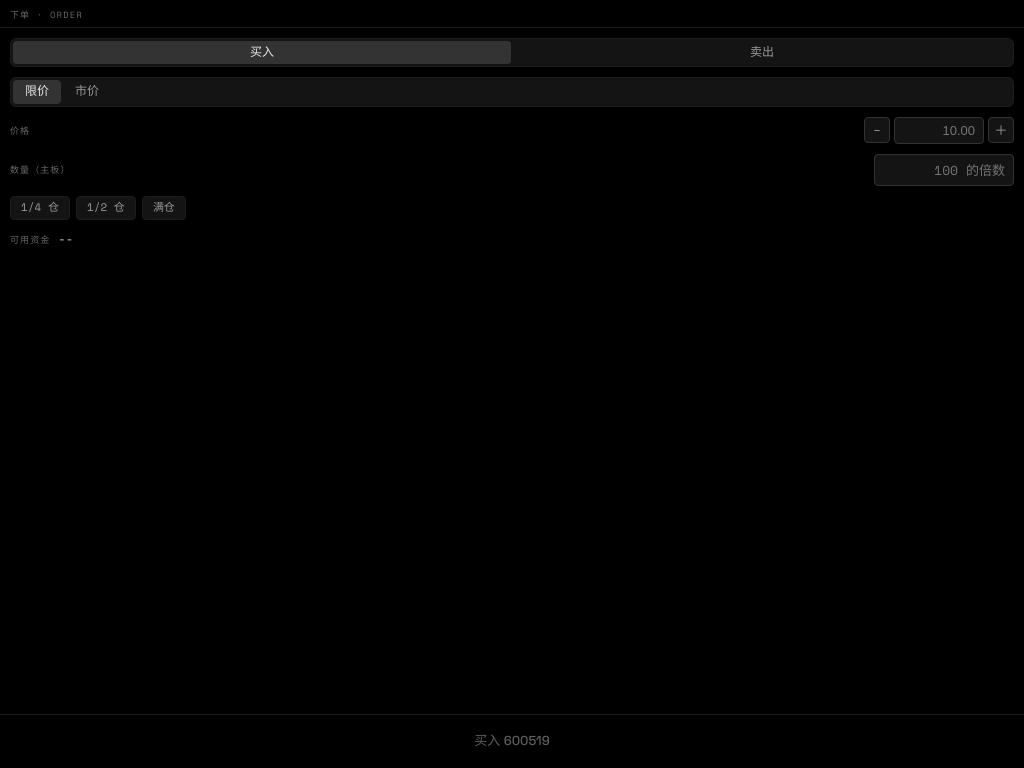
Test case: 下单面板（01 §4.7） › 市价类型 seg 仅市价态出现
The image size is (1024, 768).
Expected: the text "最优五档剩余撤销" is not shown
Click the button "市价": (87, 92) [63, 80, 111, 104]
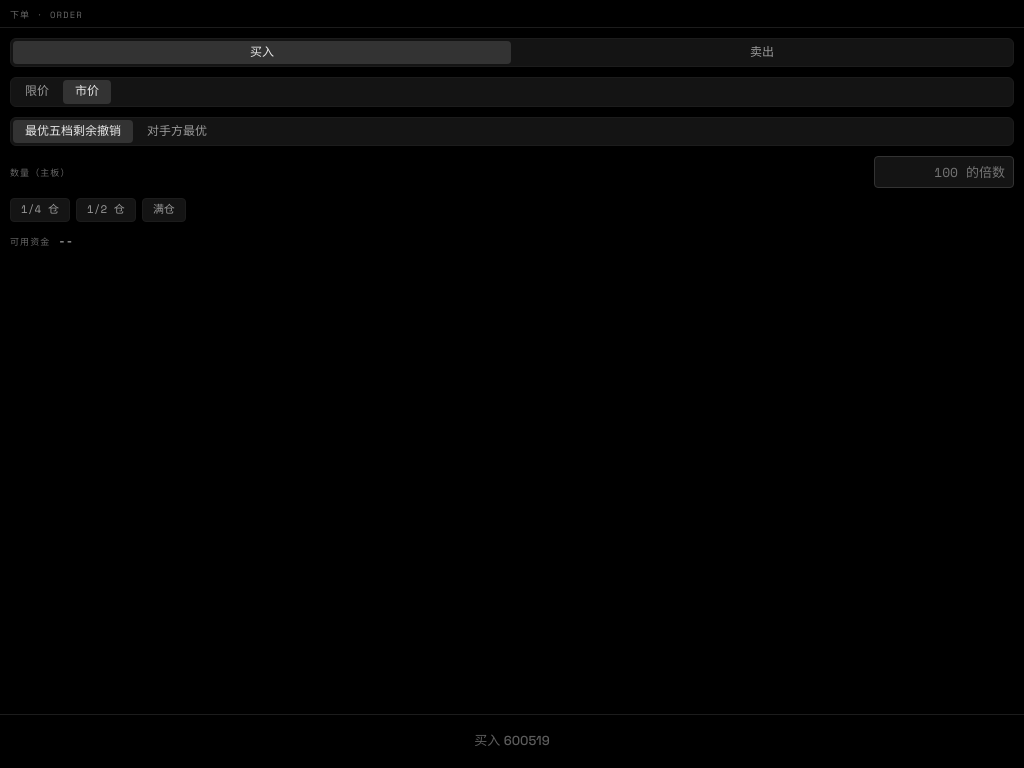
Now the button "最优五档剩余撤销" is shown, box [13, 120, 133, 143]
